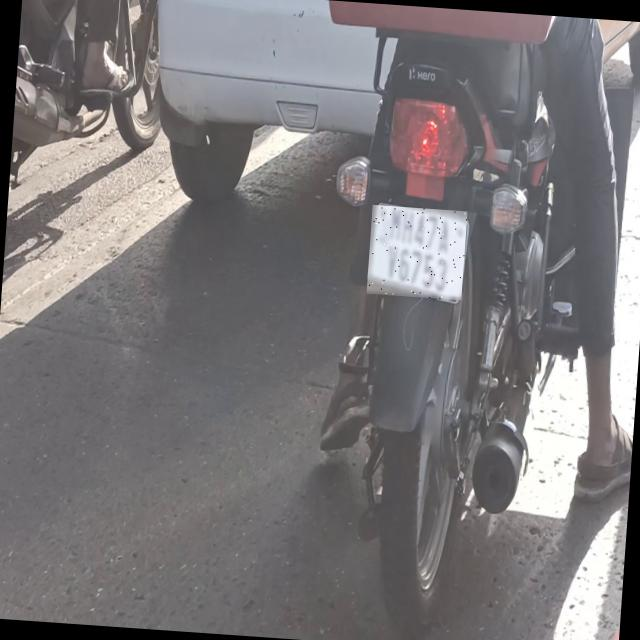Plate: (367, 206, 468, 302)
